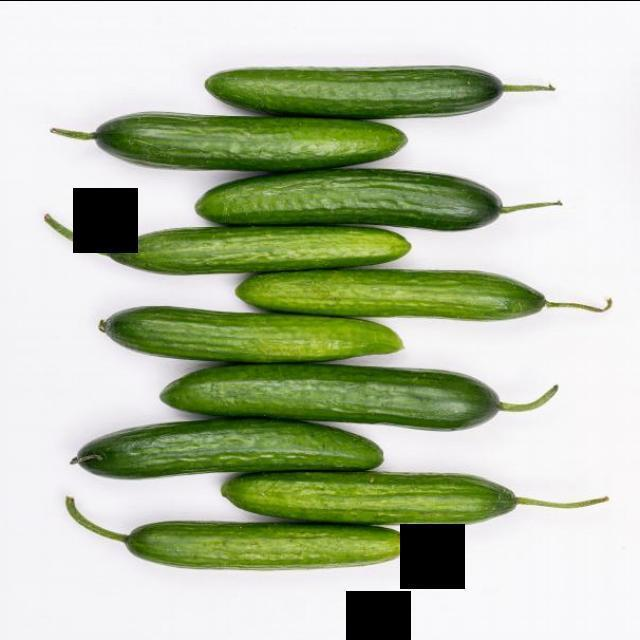cucumber: (94, 113, 410, 171), (157, 369, 499, 422), (194, 168, 502, 222), (208, 64, 510, 118), (242, 269, 550, 319), (112, 228, 416, 278), (78, 428, 382, 478), (228, 471, 518, 519), (106, 312, 408, 358), (130, 525, 412, 571)
